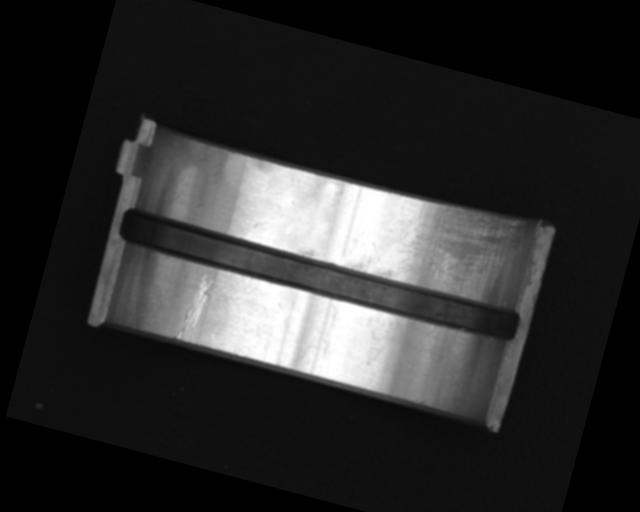gap: (115, 203, 523, 345)
nick: (174, 269, 216, 346)
scratch: (377, 185, 529, 309)
